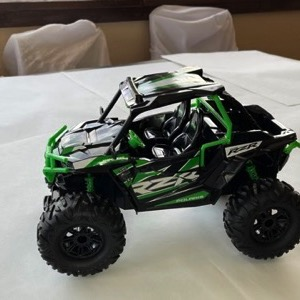polaris: (36, 67, 297, 276)
